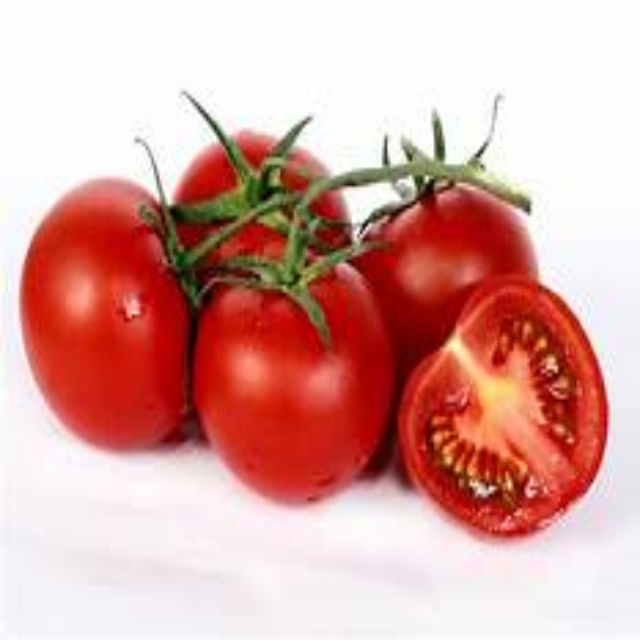tomato: (376, 285, 611, 549), (184, 260, 395, 509), (22, 173, 197, 447), (367, 176, 541, 354), (176, 125, 350, 296)
